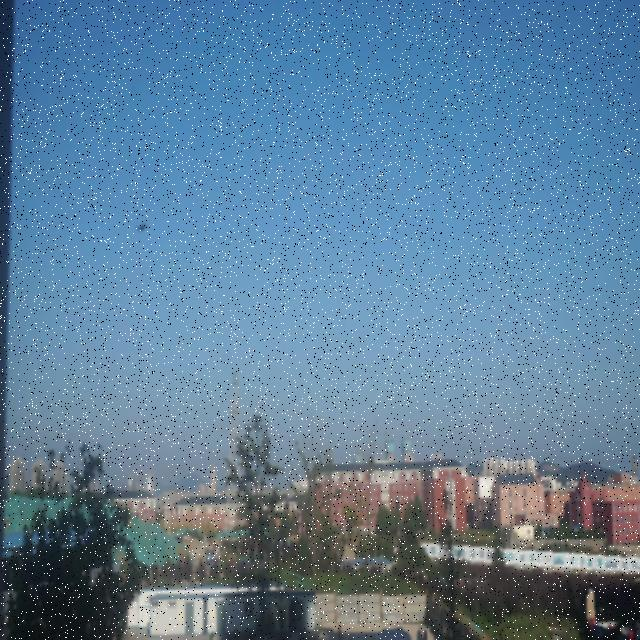UAV: (136, 223, 148, 232)
